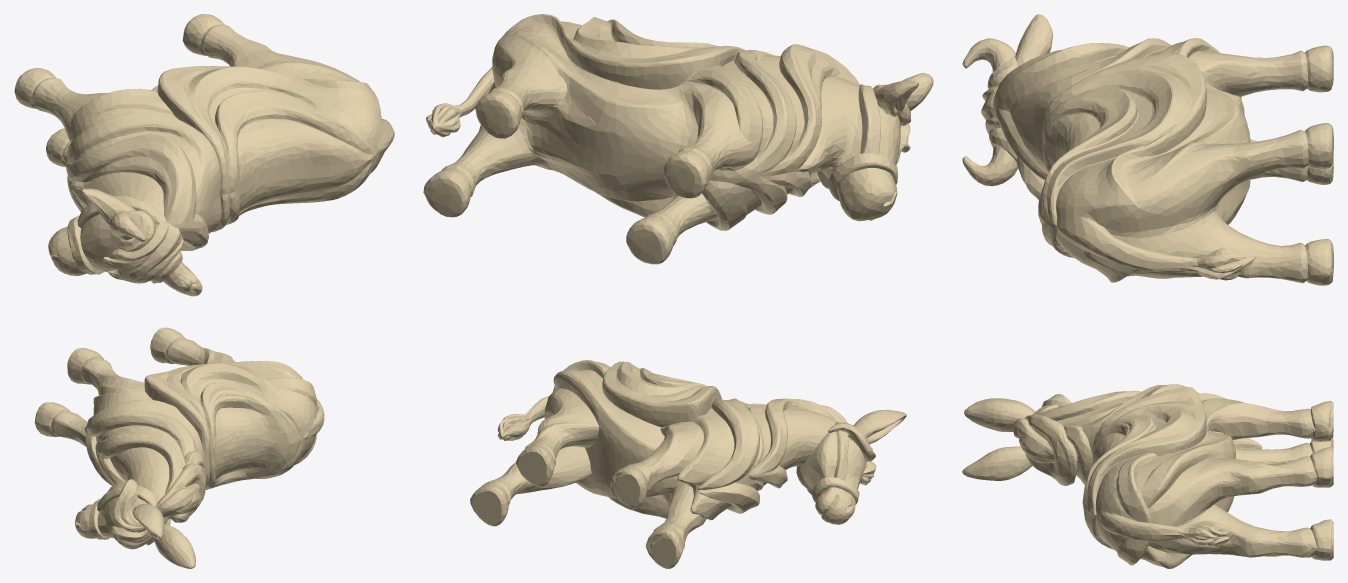
The model's file is conjunto-buey-y-mula.glb.
The picture shows the model from 3 angles, left to right: view 1: azimuth 30°, elevation 25°; view 2: azimuth 150°, elevation 25°; view 3: azimuth 270°, elevation 25°; orthographic projection. The views are drawn at different scales.
Size of the model in its own units: 87.83 by 96.62 by 70.04.
